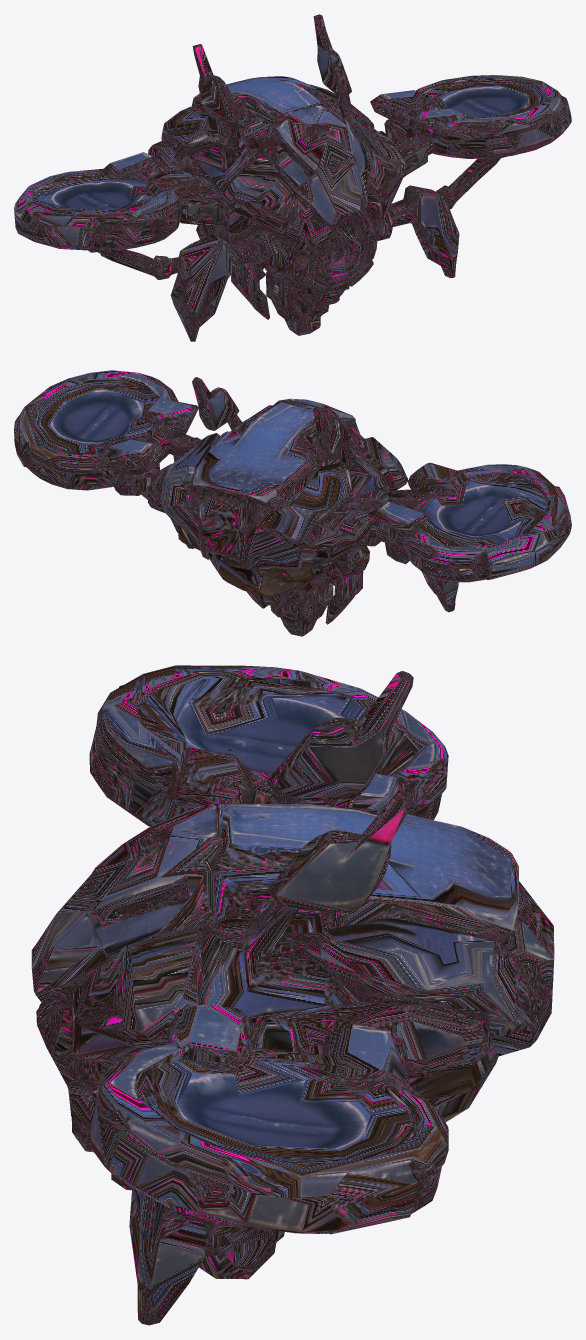
Rendered from drone.glb.
3 renders of one model, top to bottom at view 1: azimuth 30°, elevation 25°; view 2: azimuth 150°, elevation 25°; view 3: azimuth 270°, elevation 25°, orthographic. The views are drawn at different scales.
Parts seen in each view (by area): view 1: world; view 2: world; view 3: world.
Boxes of the visible parts, x1,y1,x2,y2 form: world: (14, 14, 571, 341); world: (14, 370, 571, 636); world: (31, 665, 554, 1325).
Size of the model in its own units: 1.99 by 0.9719 by 0.8492.
1 material, 1 textured.
